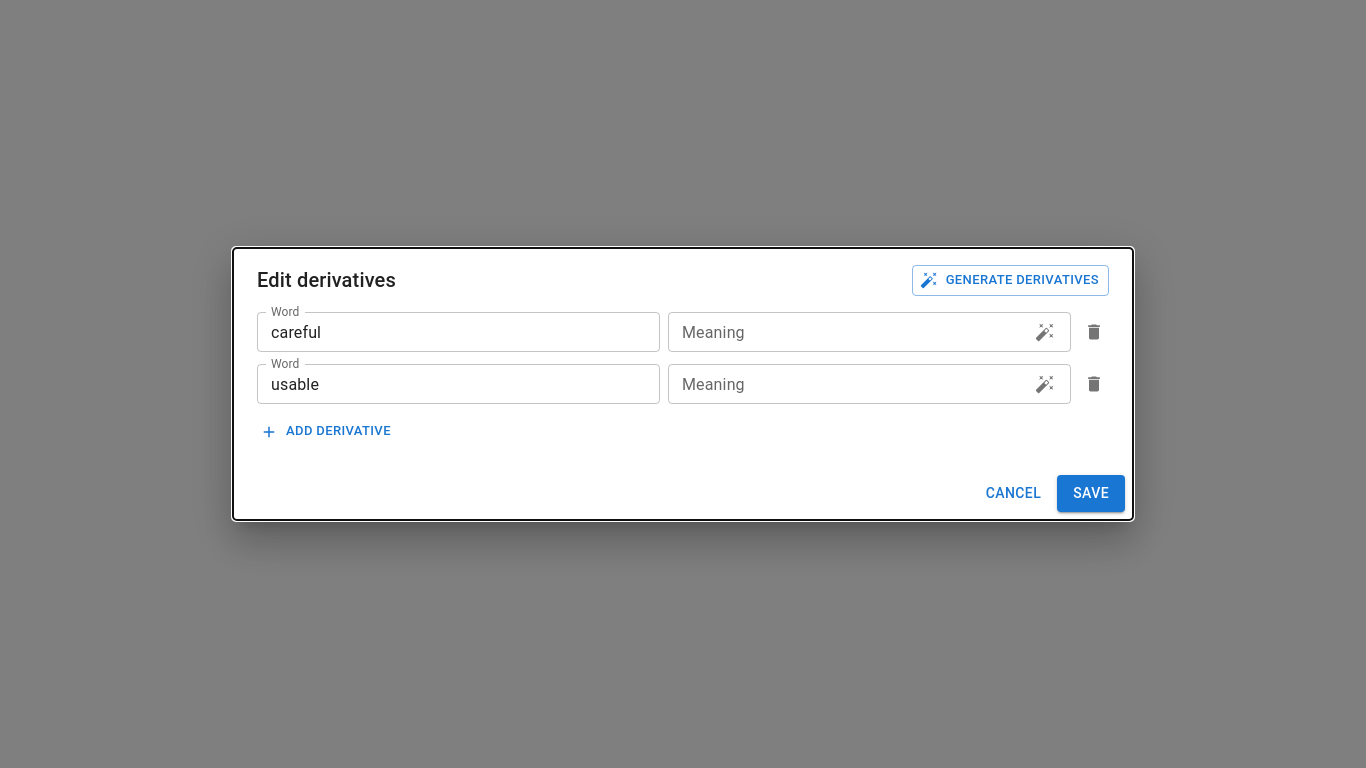
Test: DerivativeEditDialog › shows a success message for the targeted row
This screenshot has width=1366, height=768.
Click the button named "Generate meanings: careful" at (1045, 332), box [1030, 317, 1060, 347]
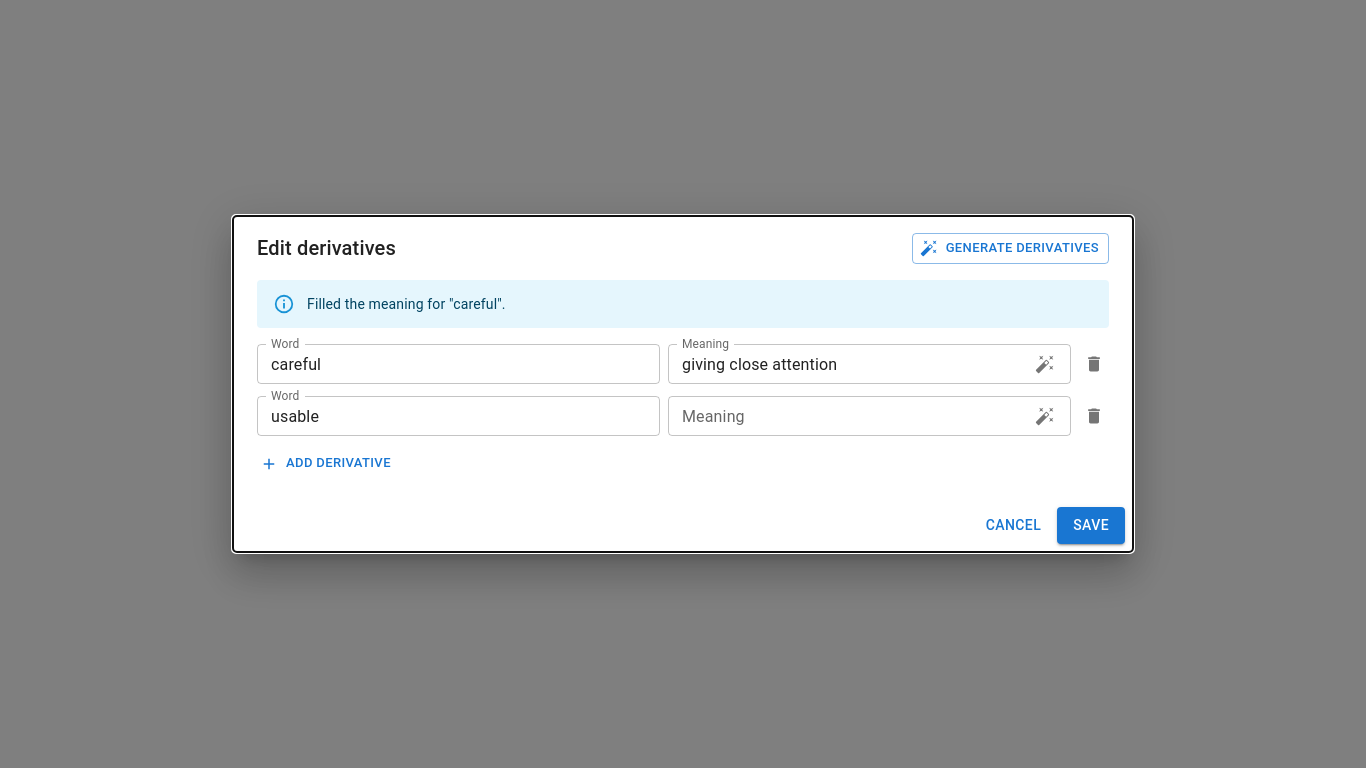
Result: the text "Filled the meaning for \"careful\"." is shown at [307, 296, 506, 312]
